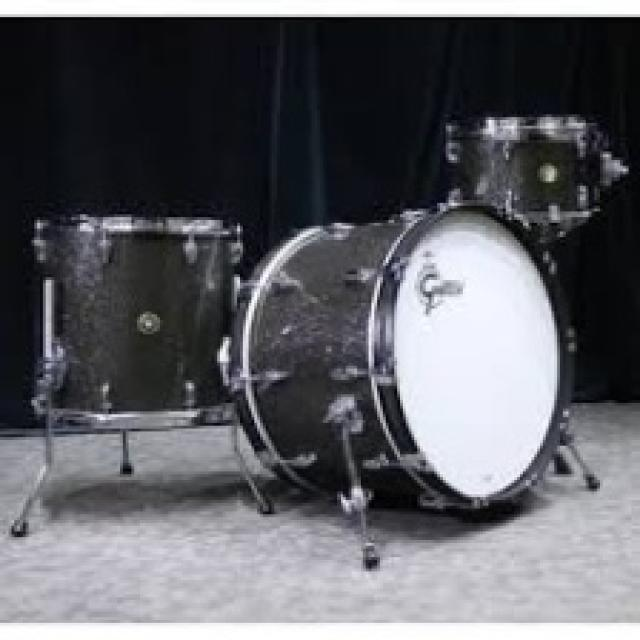drums: (29, 115, 634, 517)
